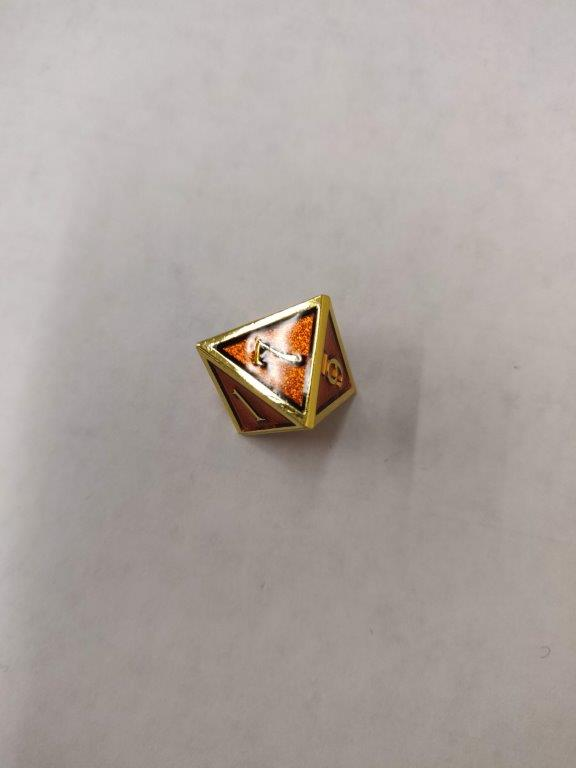d8-7: (192, 290, 356, 436)
